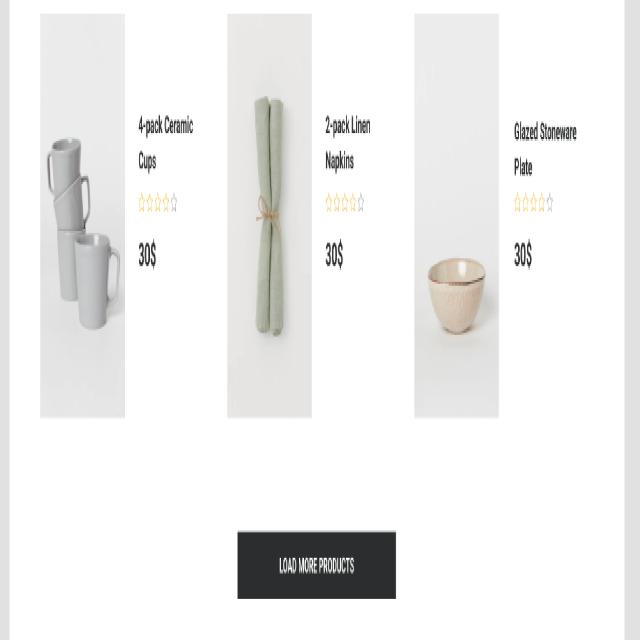LoadMoreProductsButton: (236, 527, 397, 601)
ProductTileRow: (31, 6, 602, 445)
